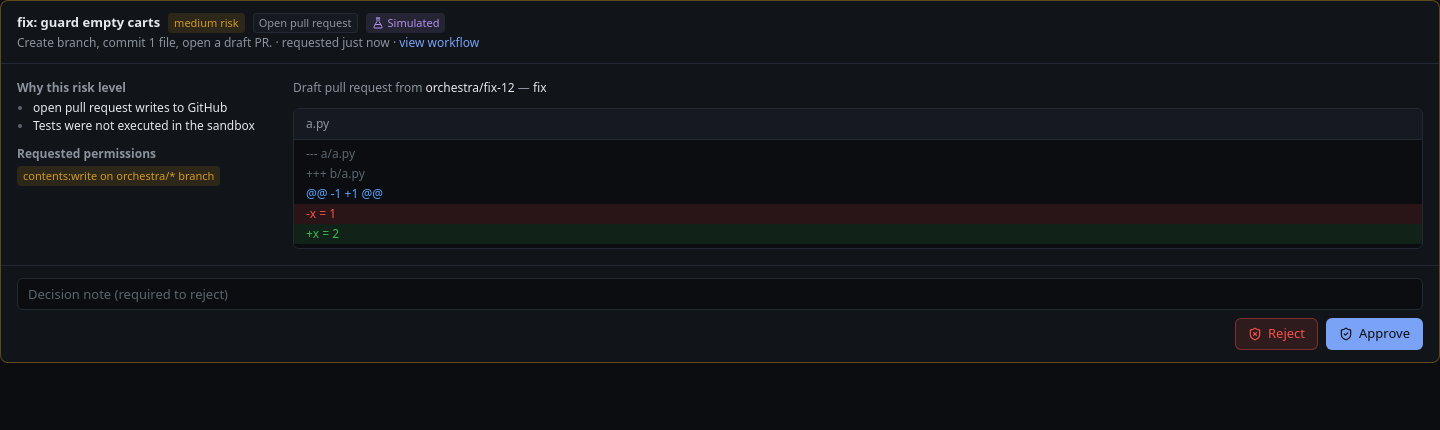
Test: ApprovalCard › requires a reason before rejecting
The width and height of the screenshot is (1440, 430).
Step 1. Click the button "Reject" → (1276, 334), box x1=1235 y1=318 x2=1318 y2=350
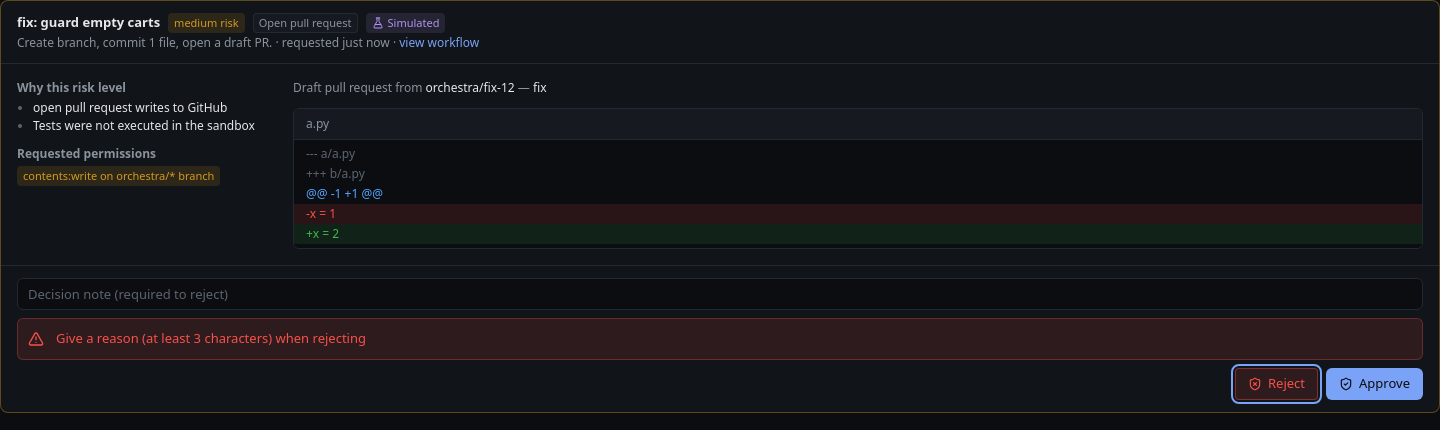
Result: the message shows "Give a reason" at x1=56 y1=329 x2=366 y2=347
